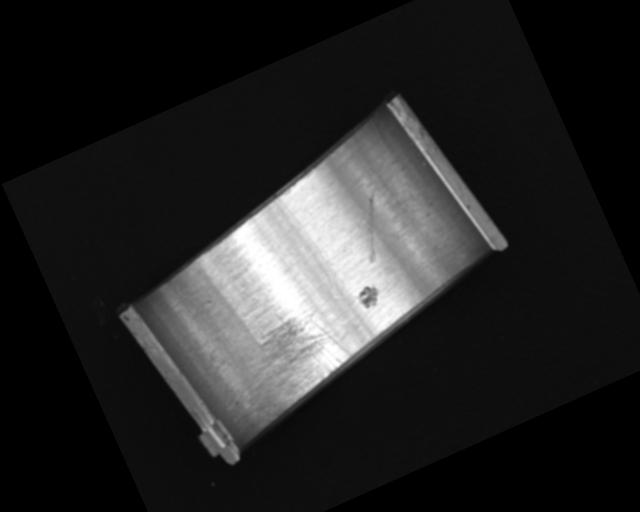bruise: (355, 282, 384, 310)
nick: (276, 188, 342, 302), (344, 190, 400, 263)
scratch: (227, 292, 365, 425)
